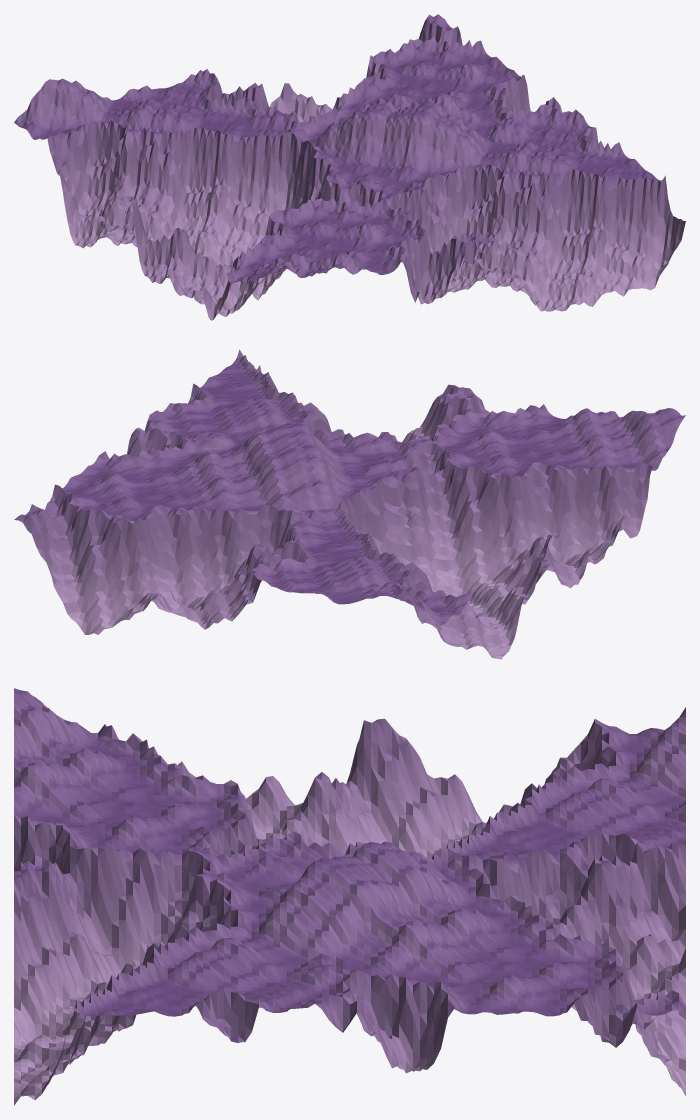
Rendered from alien_lod0.glb.
3 views of the same model, one above another, from view 1: azimuth 30°, elevation 25°; view 2: azimuth 150°, elevation 25°; view 3: azimuth 270°, elevation 25° (orthographic). The views are drawn at different scales.
Parts seen in each view (by area): view 1: world; view 2: world; view 3: world.
Part boxes in pixels (x1,y1,x2,y2): world: (14, 14, 685, 320); world: (14, 349, 685, 659); world: (14, 688, 685, 1105).
Size of the model in its own units: 2 by 0.6555 by 2.
